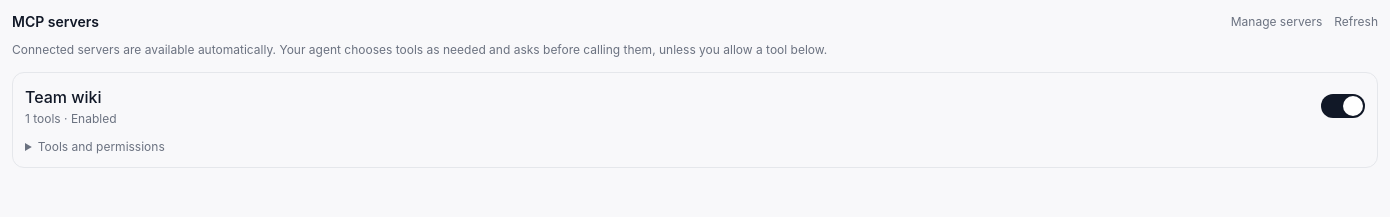
McpSessionPanel › persists a conversation opt-out immediately while preserving its custom rules
The image size is (1390, 217).
Click the switch named "Use Team wiki": (1343, 106) [1321,94,1365,118]
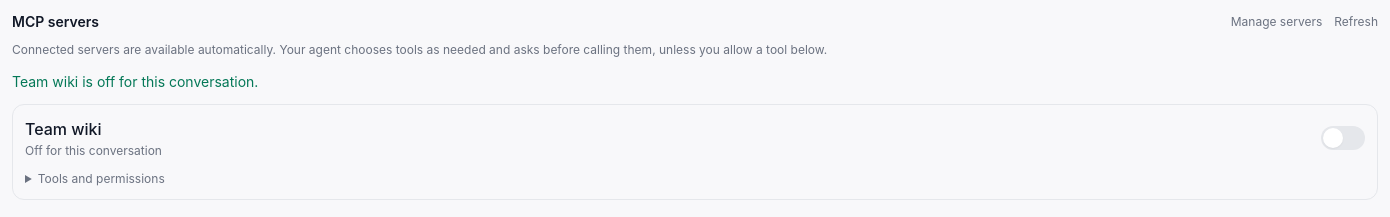
expect the text "Off for this conversation" is shown: met, box [25,143,162,159]
